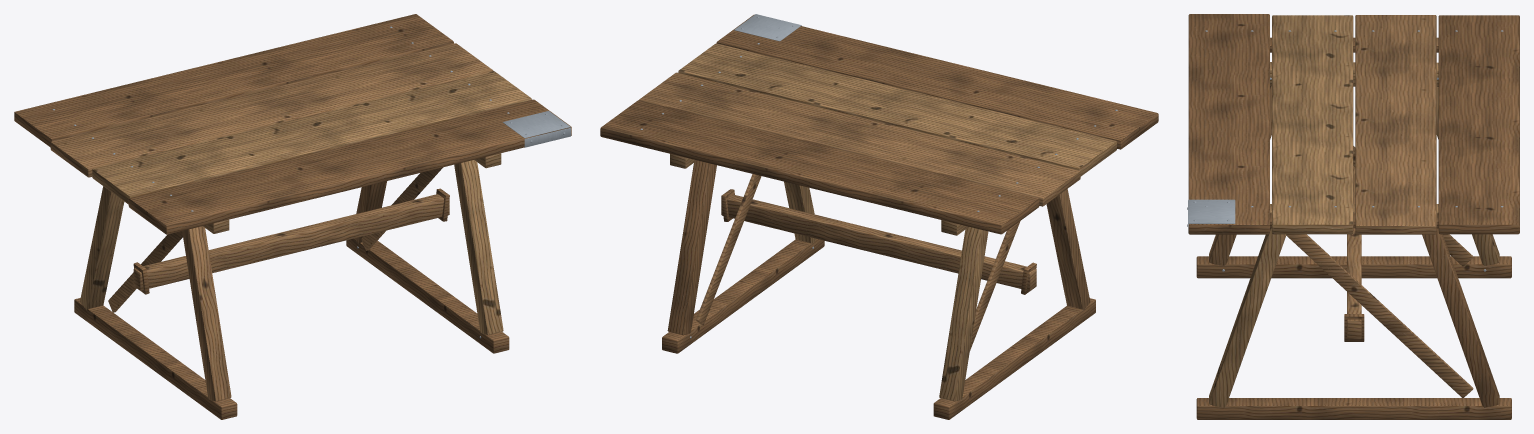
File: wooden_table.glb
The picture shows the model from 3 angles, left to right: view 1: azimuth 30°, elevation 25°; view 2: azimuth 150°, elevation 25°; view 3: azimuth 270°, elevation 25°; orthographic projection. The views are drawn at different scales.
Parts seen in each view (by area): view 1: WoodenTableBody; view 2: WoodenTableBody; view 3: WoodenTableBody.
Boxes of the visible parts, x1,y1,x2,y2 form: WoodenTableBody: [14, 14, 571, 419]; WoodenTableBody: [600, 14, 1158, 419]; WoodenTableBody: [1187, 14, 1519, 419].
Size of the model in its own units: 1.49 by 0.7489 by 0.9929.
Materials: 7 (7 with a texture image).
